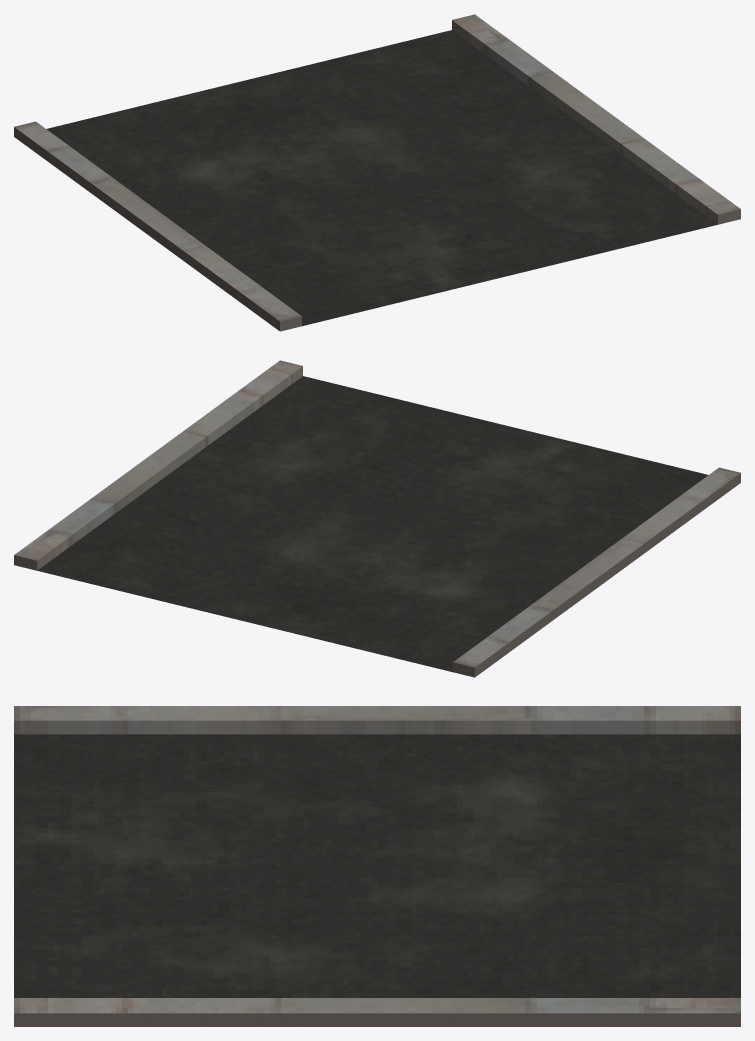
The model's file is Road.glb.
The picture shows the model from 3 angles, top to bottom: view 1: azimuth 30°, elevation 25°; view 2: azimuth 150°, elevation 25°; view 3: azimuth 270°, elevation 25°; orthographic projection. The views are drawn at different scales.
Visible parts, largest first — view 1: Road; view 2: Road; view 3: Road.
Boxes of the visible parts, x1=… form: Road: x1=14, y1=14, x2=740, y2=331; Road: x1=14, y1=360, x2=740, y2=677; Road: x1=14, y1=706, x2=740, y2=1026.
Size of the model in its own units: 4.8 by 0.1 by 4.8.
2 materials, 2 textured.
